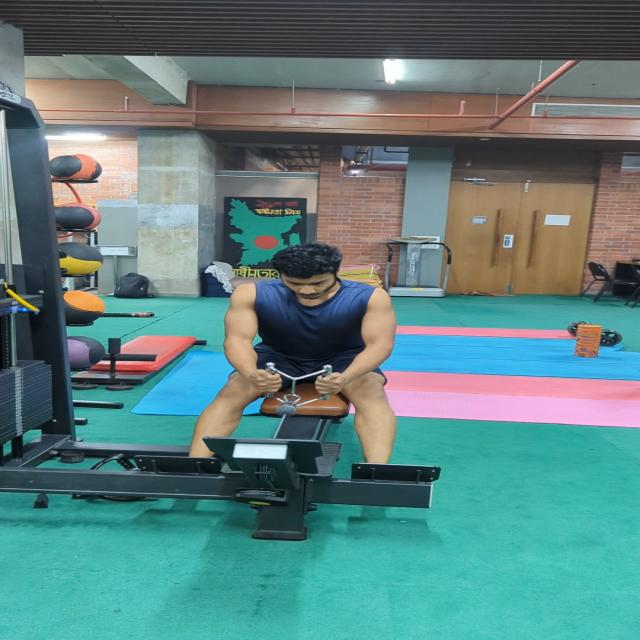Normal_RowingMachineExercise: (186, 242, 406, 470)
